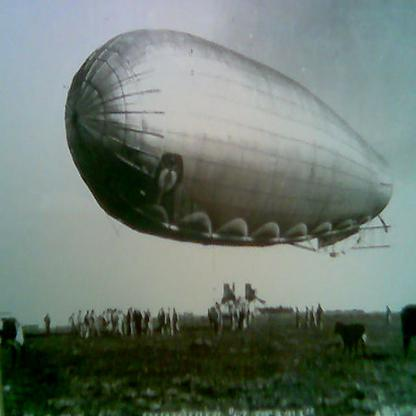Airship: (65, 28, 402, 262)
